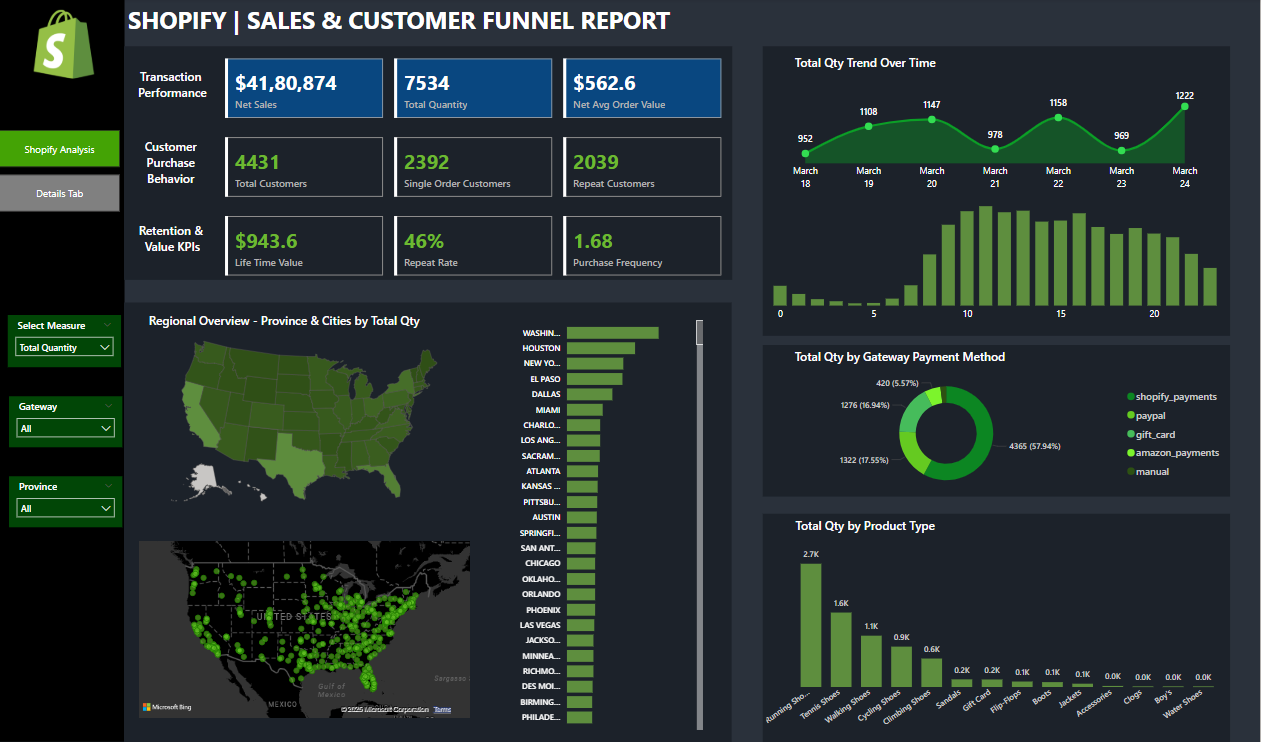

What the dashboard file says about the page in this screenshot:
{"tool":"powerbi","page":{"name":"Shopify Analysis","canvas":[1700,1000],"ordinal":0},"visuals":[{"type":"shape","box":[0,0,169.2,1000.3],"z":0},{"type":"textbox","box":[169.2,0,749,62],"z":1000},{"type":"shape","box":[169.2,62,820,315],"z":2000},{"type":"cardVisual","fields":{"Data":["shopify_sales.Net Sales","shopify_sales.Total Quantity","shopify_sales.Net Avg Order Value"]},"box":[299.9,73.7,680.3,90.5],"z":3000},{"type":"card","fields":{"Values":["shopify_sales.Transaction Perf"]},"box":[169.2,73.7,130.7,78.8],"z":4000},{"type":"cardVisual","fields":{"Data":["shopify_sales.Total Customers","shopify_sales.Single Order Customers","shopify_sales.Repeat Customers"]},"box":[299.9,180.1,680.3,90.5],"z":5000},{"type":"card","fields":{"Values":["shopify_sales.Customer Purchase Behavior"]},"box":[169.2,174.3,130.7,85.5],"z":6000},{"type":"cardVisual","fields":{"Data":["shopify_sales.Life Time Value","shopify_sales.Repeat Rate","shopify_sales.Purchase Frequency"]},"box":[299.9,286.5,680.3,90.5],"z":7000},{"type":"card","fields":{"Values":["shopify_sales.Retention & Value KPIs"]},"box":[169.2,286.5,130.7,85.5],"z":8000},{"type":"shape","box":[169.2,407.2,819.4,593.2],"z":9000},{"type":"shapeMap","fields":{"Category":["shopify_sales.Billing Address Province"],"Value":["shopify_sales.Total Quantity"]},"box":[184.3,442.4,455.8,249.7],"z":9001},{"type":"slicer","fields":{"Values":["Select Measure.Select Measure"]},"box":[11.4,424.3,152.5,70.4],"z":9002},{"type":"map","fields":{"Category":["shopify_sales.Location"]},"box":[184.3,723.9,455.8,248],"z":9003},{"type":"clusteredBarChart","fields":{"Category":["shopify_sales.CITY"],"Y":["shopify_sales.Total Quantity"]},"box":[685.3,418.9,268.1,569.7],"z":9004},{"type":"card","fields":{"Values":["shopify_sales.Map Title"]},"box":[169.2,407.2,432.3,53.6],"z":9005},{"type":"shape","box":[1028.8,62,630,390.4],"z":9006},{"type":"areaChart","fields":{"Category":["shopify_sales.Invoice Date.Variation.Date Hierarchy.Day","shopify_sales.Invoice Date.Variation.Date Hierarchy.Month"],"Y":["shopify_sales.Total Quantity"]},"box":[1048.9,110.6,589.8,159.2],"z":9007},{"type":"columnChart","fields":{"Category":["shopify_sales.Hour"],"Y":["shopify_sales.Total Quantity"]},"box":[1038.9,258,609.9,184.3],"z":9008},{"type":"card","fields":{"Values":["shopify_sales.Trend Title"]},"box":[1028.8,62,276.5,48.6],"z":9009},{"type":"shape","box":[1028.8,465.8,630,204.4],"z":9010},{"type":"donutChart","fields":{"Category":["shopify_sales.Gateway"],"Y":["shopify_sales.Total Quantity"]},"box":[1028.8,499.3,630,170.9],"z":9011},{"type":"card","fields":{"Values":["shopify_sales.Gateway Title"]},"box":[1028.8,465.8,370.3,35.2],"z":9012},{"type":"shape","box":[1028.8,692,630,308.3],"z":9013},{"type":"columnChart","fields":{"Category":["shopify_sales.Product Type"],"Y":["shopify_sales.Total Quantity"]},"box":[1028.8,723.9,630,264.7],"z":9014},{"type":"card","fields":{"Values":["shopify_sales.Product Title"]},"box":[1028.8,692,276.5,35.2],"z":9015},{"type":"image","box":[38.5,8.4,97.2,102.2],"z":9016},{"type":"slicer","fields":{"Values":["shopify_sales.Gateway"]},"box":[13.4,534.5,152.5,68.7],"z":9017},{"type":"slicer","fields":{"Values":["shopify_sales.Billing Address Province"]},"box":[13.4,641.8,152.5,68.7],"z":9018},{"type":"pageNavigator","box":[0,175.3,163.5,111.2],"z":9019}]}

Visuals, with their boxes on the page's 1700x1000 design canvas (x1, y1, x2, y2). These are canvas units, not pixel positions in the 1261x742 screenshot, which may show the page scaled, cropped or inside an application window:
shape: {"left": 0, "top": 0, "right": 169, "bottom": 1000}
textbox: {"left": 169, "top": 0, "right": 918, "bottom": 62}
shape: {"left": 169, "top": 62, "right": 989, "bottom": 377}
cardVisual - shopify_sales.Net Sales x shopify_sales.Total Quantity: {"left": 300, "top": 74, "right": 980, "bottom": 164}
card - shopify_sales.Transaction Perf: {"left": 169, "top": 74, "right": 300, "bottom": 152}
cardVisual - shopify_sales.Total Customers x shopify_sales.Single Order Customers: {"left": 300, "top": 180, "right": 980, "bottom": 271}
card - shopify_sales.Customer Purchase Behavior: {"left": 169, "top": 174, "right": 300, "bottom": 260}
cardVisual - shopify_sales.Life Time Value x shopify_sales.Repeat Rate: {"left": 300, "top": 286, "right": 980, "bottom": 377}
card - shopify_sales.Retention & Value KPIs: {"left": 169, "top": 286, "right": 300, "bottom": 372}
shape: {"left": 169, "top": 407, "right": 989, "bottom": 1000}
shapeMap - shopify_sales.Billing Address Province x shopify_sales.Total Quantity: {"left": 184, "top": 442, "right": 640, "bottom": 692}
slicer - Select Measure.Select Measure: {"left": 11, "top": 424, "right": 164, "bottom": 495}
map - shopify_sales.Location: {"left": 184, "top": 724, "right": 640, "bottom": 972}
clusteredBarChart - shopify_sales.CITY x shopify_sales.Total Quantity: {"left": 685, "top": 419, "right": 953, "bottom": 989}
card - shopify_sales.Map Title: {"left": 169, "top": 407, "right": 602, "bottom": 461}
shape: {"left": 1029, "top": 62, "right": 1659, "bottom": 452}
areaChart - shopify_sales.Invoice Date.Variation.Date Hierarchy.Day x shopify_sales.Invoice Date.Variation.Date Hierarchy.Month: {"left": 1049, "top": 111, "right": 1639, "bottom": 270}
columnChart - shopify_sales.Hour x shopify_sales.Total Quantity: {"left": 1039, "top": 258, "right": 1649, "bottom": 442}
card - shopify_sales.Trend Title: {"left": 1029, "top": 62, "right": 1305, "bottom": 111}
shape: {"left": 1029, "top": 466, "right": 1659, "bottom": 670}
donutChart - shopify_sales.Gateway x shopify_sales.Total Quantity: {"left": 1029, "top": 499, "right": 1659, "bottom": 670}
card - shopify_sales.Gateway Title: {"left": 1029, "top": 466, "right": 1399, "bottom": 501}
shape: {"left": 1029, "top": 692, "right": 1659, "bottom": 1000}
columnChart - shopify_sales.Product Type x shopify_sales.Total Quantity: {"left": 1029, "top": 724, "right": 1659, "bottom": 989}
card - shopify_sales.Product Title: {"left": 1029, "top": 692, "right": 1305, "bottom": 727}
image: {"left": 38, "top": 8, "right": 136, "bottom": 111}
slicer - shopify_sales.Gateway: {"left": 13, "top": 534, "right": 166, "bottom": 603}
slicer - shopify_sales.Billing Address Province: {"left": 13, "top": 642, "right": 166, "bottom": 710}
pageNavigator: {"left": 0, "top": 175, "right": 164, "bottom": 286}
